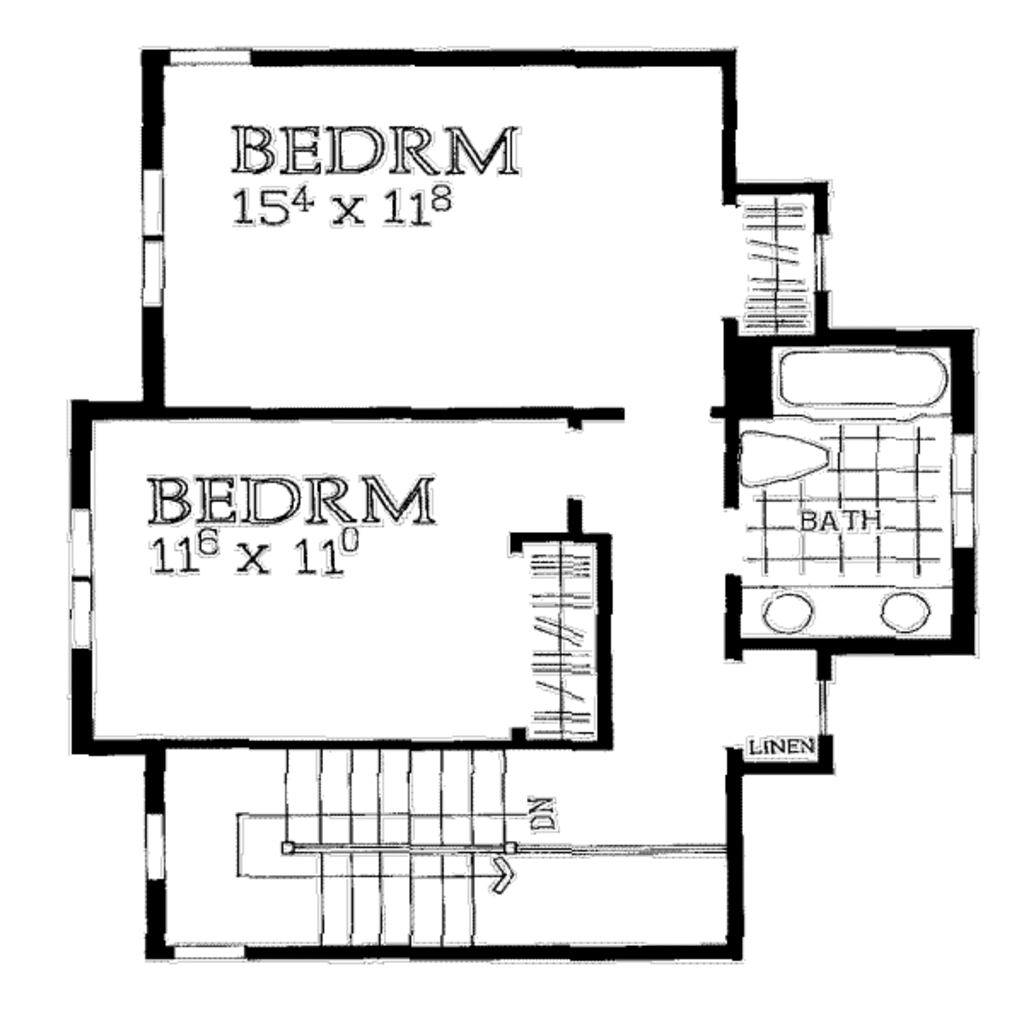large_sink: (733, 419, 836, 500)
small_sink: (741, 588, 958, 649)
stairs: (236, 744, 736, 952)
tub: (781, 349, 958, 422)
window: (67, 567, 91, 649), (141, 167, 170, 233), (177, 936, 250, 961), (170, 49, 258, 67), (70, 511, 92, 575), (142, 817, 163, 875), (147, 242, 163, 308)
